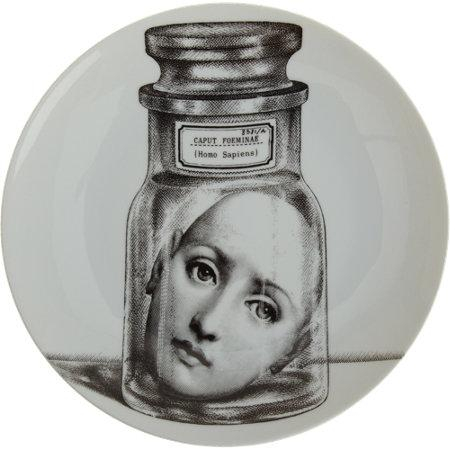person: (143, 187, 317, 399)
